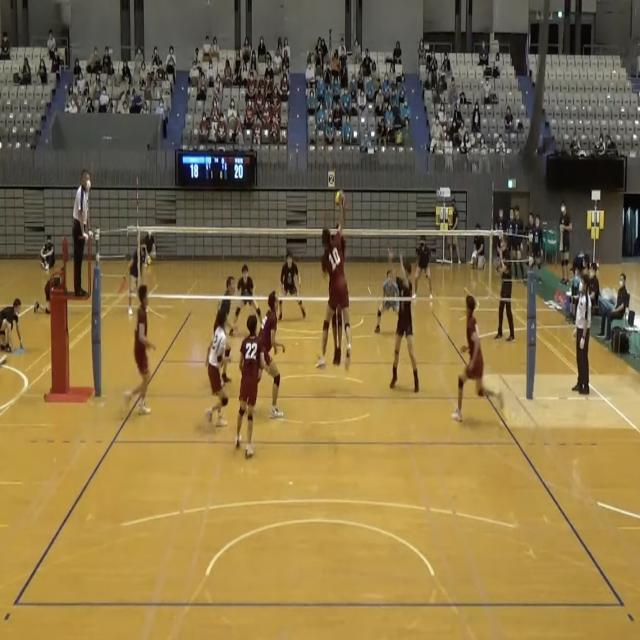spike: (316, 185, 356, 382)
